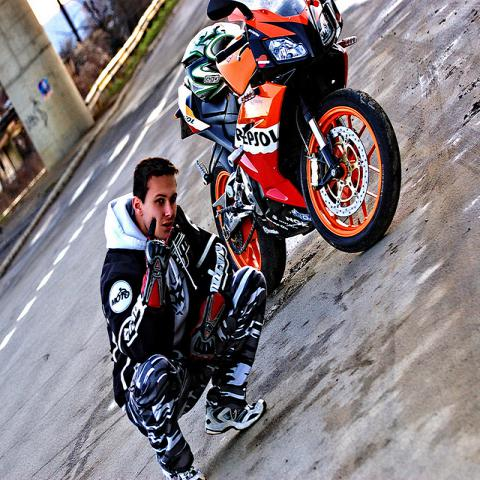motorcycle: (175, 1, 403, 287)
